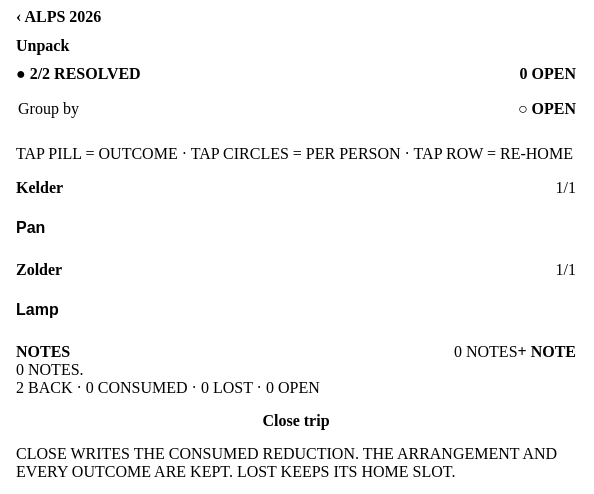
Test: the ○ OPEN filter (F4) › reads NOTHING OPEN. once every row is resolved and the filter is still on
Click the button with test id "unpack-open-filter" at (547, 109), box [518,89,576,129]
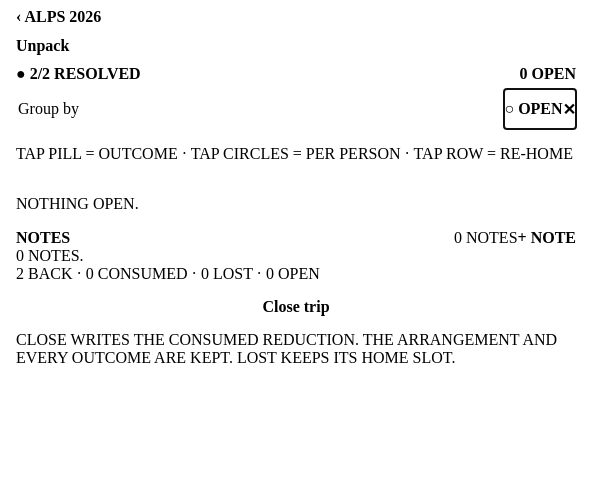
expect the text "NOTHING OPEN." is shown: met, box [16,195,139,212]
expect the text "Zolder" is gone: met
expect the text "Kelder" is gone: met
